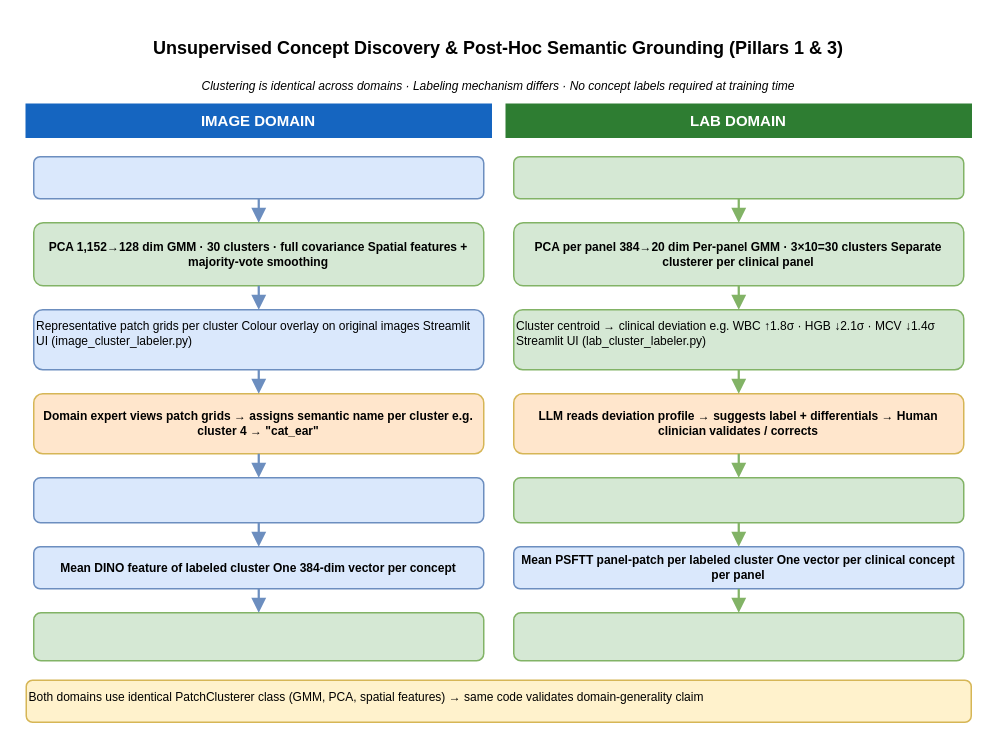
The diagram is 998 pixels wide and 749 high, and some of its shapes have lost their labels. Each missing label, with the centre of its shape:
DINO patch features [N_patches × 1,152-dim] (after FG mask): pixel 258 177
PSFTT panel-patch features [N_records × 3 × 384-dim]: pixel 738 177
score[img, c] = fraction patches → cluster c [N_images × K_labeled]: pixel 258 636
score[rec, c] = cluster membership [N_records × K_labeled] (validated vs HbA1c): pixel 738 636
{"4": "cat_ear", "9": "wheel_rim", ...} Unlabeled clusters excluded downstream: pixel 258 499
{"CBC_4": "iron-deficiency anaemia", ...} Confidence score recorded per label: pixel 738 499
